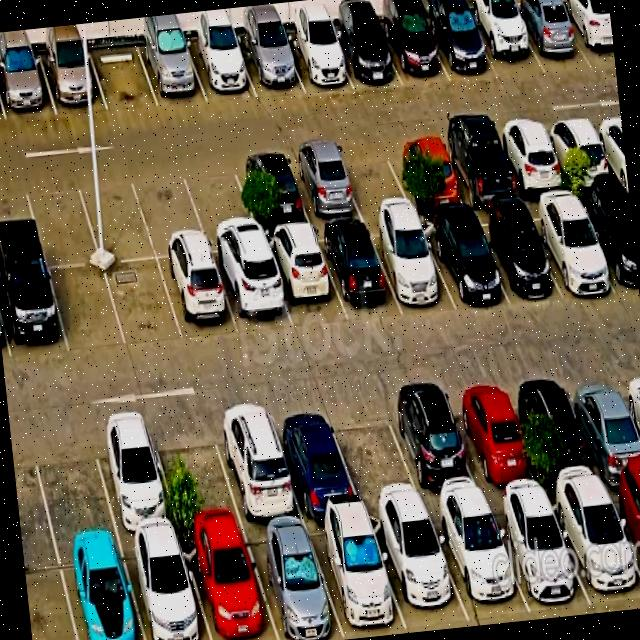empty: (325, 394, 424, 510), (148, 413, 243, 533), (28, 421, 117, 546), (180, 157, 262, 253), (75, 170, 156, 262), (22, 174, 100, 267), (131, 165, 209, 258), (104, 258, 183, 348), (49, 265, 126, 354), (333, 142, 412, 216), (88, 43, 158, 110)
occupied: (381, 385, 485, 507), (305, 515, 407, 639), (487, 495, 591, 613), (428, 501, 530, 621), (241, 523, 344, 640), (368, 510, 469, 628), (444, 378, 542, 499), (547, 485, 640, 612), (209, 401, 303, 525), (267, 400, 362, 518), (88, 416, 179, 537), (513, 371, 604, 492), (179, 528, 277, 640), (120, 534, 210, 640), (523, 196, 617, 296), (563, 368, 640, 484), (56, 540, 144, 640), (418, 214, 509, 310), (469, 208, 560, 303), (262, 229, 347, 330), (315, 223, 402, 320), (366, 219, 456, 312), (158, 254, 239, 341), (212, 249, 293, 334), (437, 129, 520, 207), (0, 265, 68, 360), (576, 192, 639, 294), (232, 152, 311, 231), (285, 147, 363, 223), (386, 135, 466, 208), (466, 7, 545, 80), (493, 121, 569, 196), (510, 4, 591, 73), (541, 116, 617, 188), (377, 13, 450, 86), (423, 11, 498, 81), (328, 21, 402, 89), (184, 38, 257, 102), (38, 48, 107, 115), (137, 40, 207, 106), (281, 29, 353, 92), (236, 34, 304, 97), (557, 0, 615, 67), (0, 53, 56, 120), (605, 479, 640, 572)
